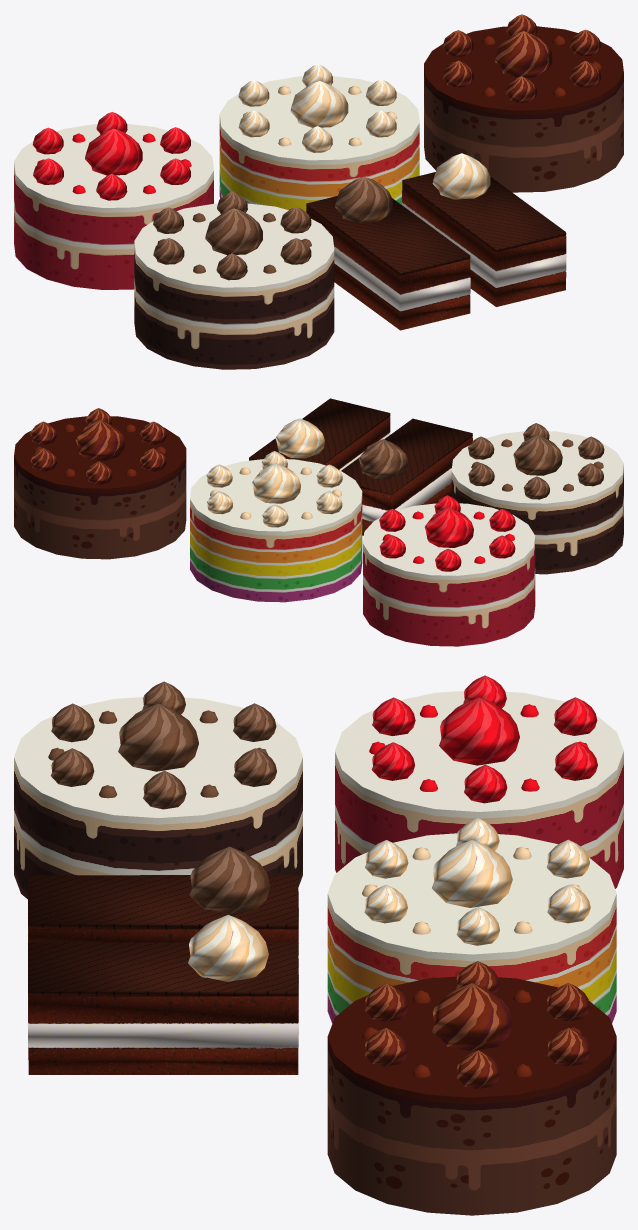
File: Cakes.fbx
The picture shows the model from 3 angles, top to bottom: view 1: azimuth 30°, elevation 25°; view 2: azimuth 150°, elevation 25°; view 3: azimuth 270°, elevation 25°; orthographic projection. The views are drawn at different scales.
Visible parts, largest first — view 1: Cake, Cake.003, Cake.001, Cake.002, Cake.004, Cake.005; view 2: Cake.001, Cake.003, Cake.002, Cake, Cake.004, Cake.005; view 3: Cake.003, Cake, Cake.002, Cake.001, Cake.005, Cake.004.
Boxes of the visible parts, x1,y1,x2,y2 form: Cake: (134, 191, 334, 369); Cake.003: (424, 14, 623, 192); Cake.001: (14, 112, 213, 289); Cake.002: (219, 64, 419, 211); Cake.004: (306, 176, 470, 330); Cake.005: (402, 153, 566, 306); Cake.001: (363, 495, 535, 646); Cake.003: (14, 408, 186, 559); Cake.002: (190, 451, 362, 602); Cake: (451, 423, 623, 574); Cake.004: (341, 418, 472, 535); Cake.005: (249, 398, 390, 470); Cake.003: (327, 961, 616, 1215); Cake: (14, 681, 302, 899); Cake.002: (327, 818, 616, 1023); Cake.001: (335, 675, 623, 888); Cake.005: (28, 915, 298, 1074); Cake.004: (28, 846, 298, 966).
Size of the model in its own units: 363 by 71.22 by 230.
5 materials, 5 textured.
